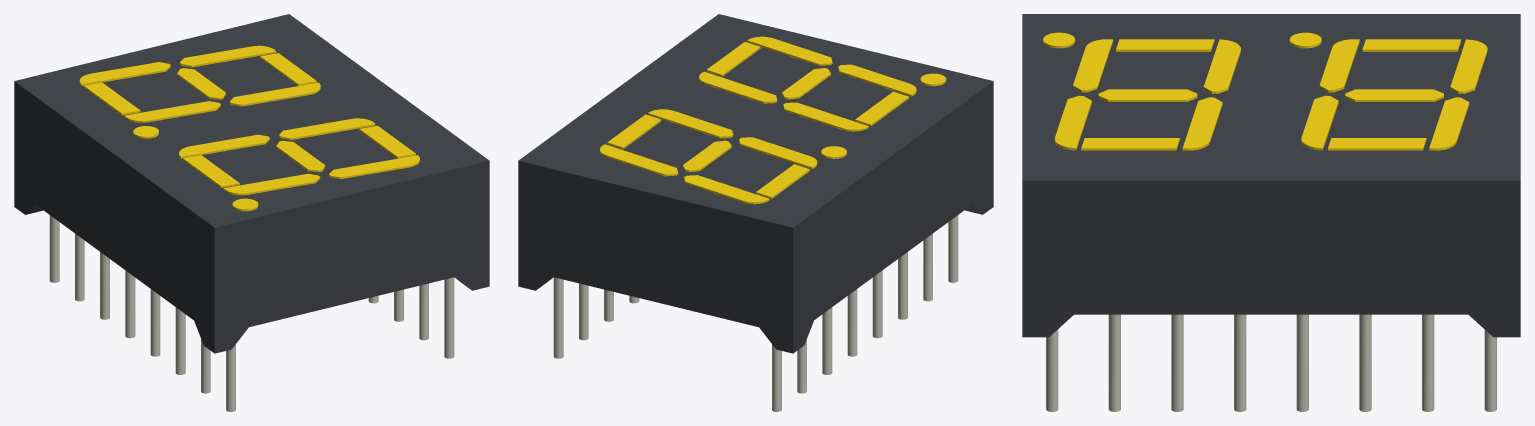
Rendered from kc-da04-11sykwa.glb.
3 renders of one model, left to right at view 1: azimuth 30°, elevation 25°; view 2: azimuth 150°, elevation 25°; view 3: azimuth 270°, elevation 25°, orthographic. The views are drawn at different scales.
Parts seen in each view (by area): view 1: 0.08333333333333333_0.08333333333333333_0.08333333333333333_, 0.9166666666666666_0.6666666666666666_0_0, 0.6666666666666666_0.6666666666666666_0.5833333333333334_0.8; view 2: 0.08333333333333333_0.08333333333333333_0.08333333333333333_, 0.9166666666666666_0.6666666666666666_0_0, 0.6666666666666666_0.6666666666666666_0.5833333333333334_0.8; view 3: 0.08333333333333333_0.08333333333333333_0.08333333333333333_, 0.9166666666666666_0.6666666666666666_0_0, 0.6666666666666666_0.6666666666666666_0.5833333333333334_0.8.
Part boxes in pixels (box(x1,y1,x2,y2)): 0.08333333333333333_0.08333333333333333_0.08333333333333333_: box(14, 14, 489, 353); 0.9166666666666666_0.6666666666666666_0_0: box(79, 45, 419, 211); 0.6666666666666666_0.6666666666666666_0.5833333333333334_0.8: box(49, 215, 454, 411); 0.08333333333333333_0.08333333333333333_0.08333333333333333_: box(518, 14, 993, 353); 0.9166666666666666_0.6666666666666666_0_0: box(600, 36, 946, 203); 0.6666666666666666_0.6666666666666666_0.5833333333333334_0.8: box(553, 215, 958, 411); 0.08333333333333333_0.08333333333333333_0.08333333333333333_: box(1022, 14, 1520, 337); 0.9166666666666666_0.6666666666666666_0_0: box(1043, 32, 1487, 150); 0.6666666666666666_0.6666666666666666_0.5833333333333334_0.8: box(1046, 314, 1496, 411).
Bounding box in the file's own units: 1.6 × 1.11 × 2.02.
